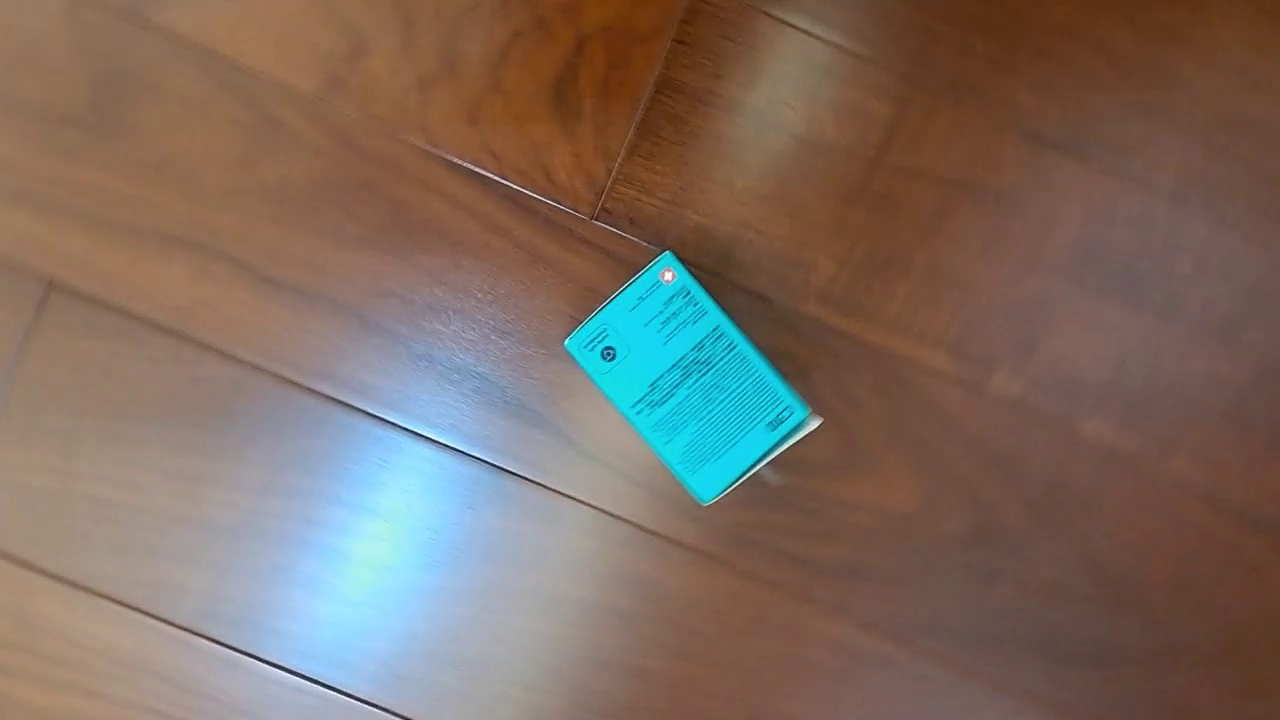webcam: (560, 247, 826, 511)
